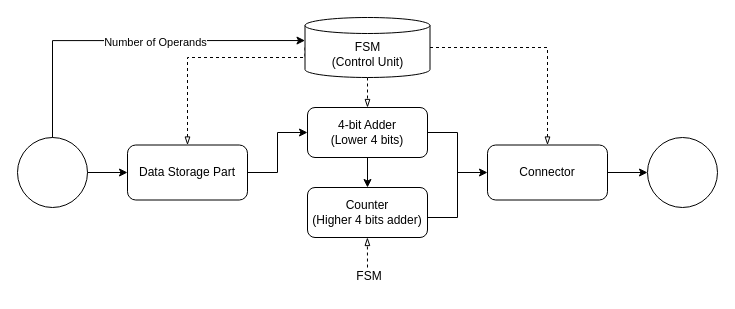
The diagram is 735 pixels wide and 309 high, and some of its shapes have lost their labels. The box of each missing label's shape, as (x1, y1, x2, y2) in pixels:
Input: (16, 136, 88, 208)
Output: (646, 136, 718, 208)
